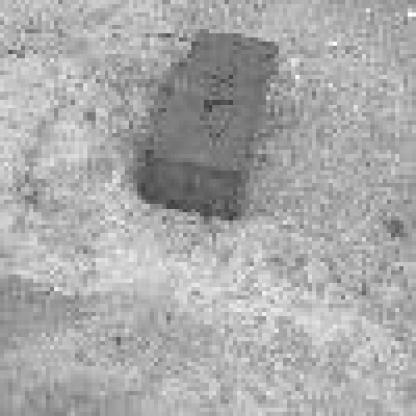brick: (136, 31, 280, 224)
